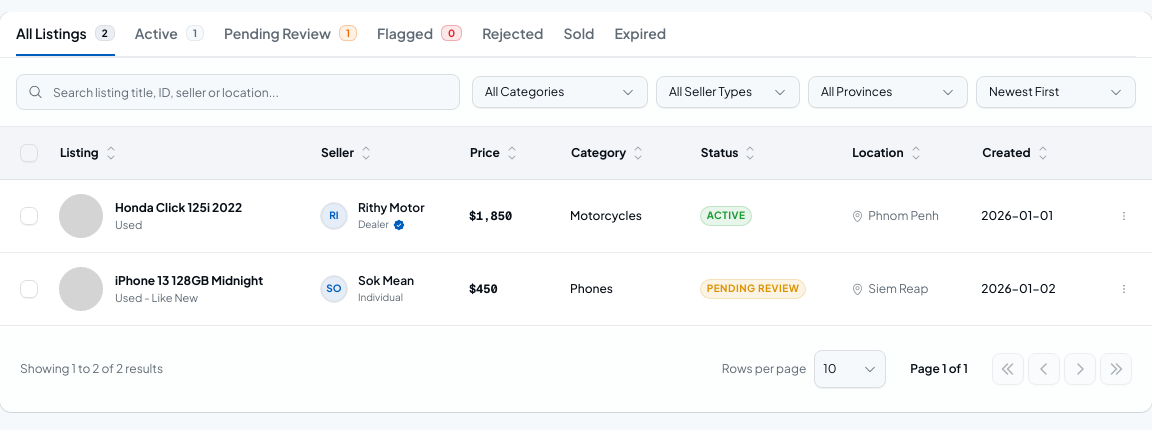
Test: <ListingTable /> › filters listings by status tab
This screenshot has width=1152, height=430.
Click the tab "Pending Review 1": (291, 34) top-left (224, 12), bottom-right (357, 56)
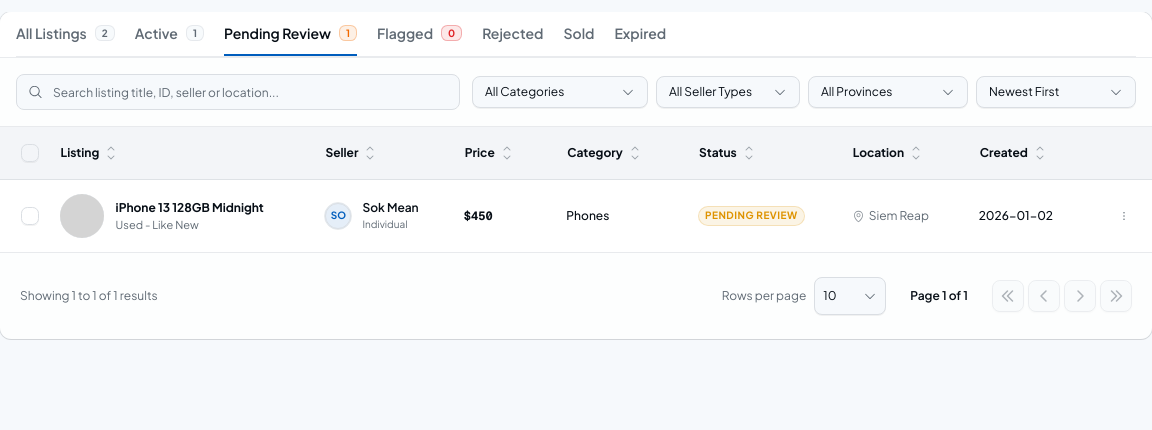
Expected: the link "iPhone 13 128GB Midnight" is shown, top-left (116, 200), bottom-right (264, 215)
Now no links "Honda Click 125i 2022" are shown
